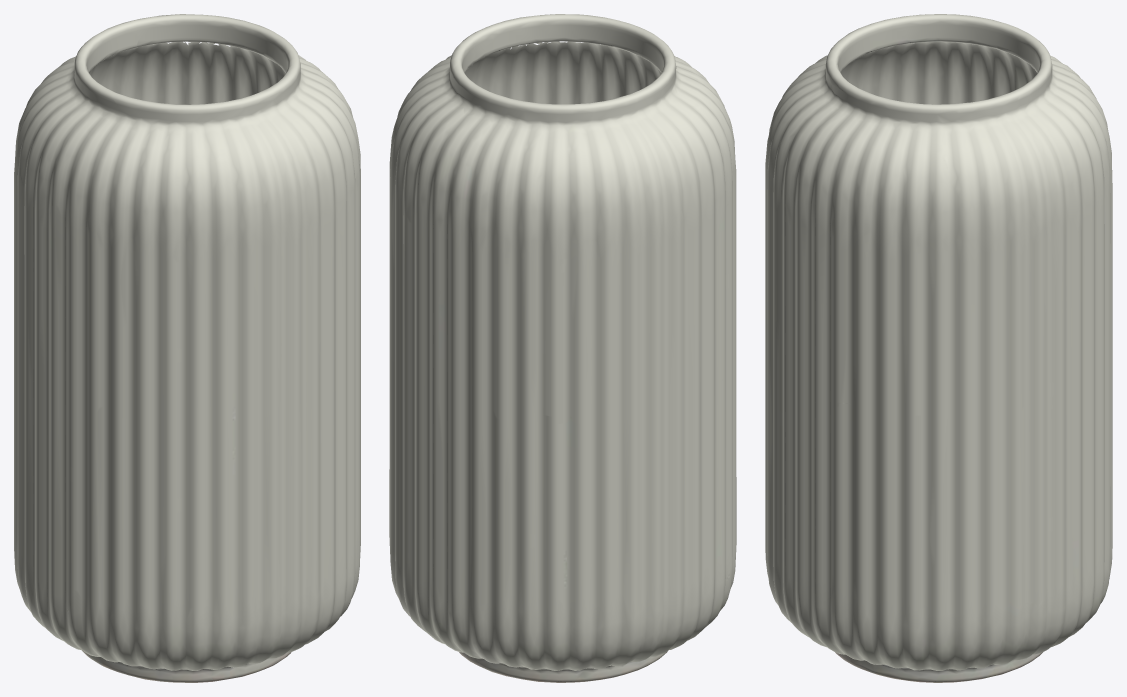
File: stilren_wazon_10442045.glb
The picture shows the model from 3 angles, left to right: view 1: azimuth 30°, elevation 25°; view 2: azimuth 150°, elevation 25°; view 3: azimuth 270°, elevation 25°; orthographic projection.
Parts seen in each view (by area): view 1: stilren_wazon_10442045; view 2: stilren_wazon_10442045; view 3: stilren_wazon_10442045.
Boxes of the visible parts, x1=… form: stilren_wazon_10442045: x1=14, y1=14, x2=360, y2=682; stilren_wazon_10442045: x1=389, y1=14, x2=736, y2=682; stilren_wazon_10442045: x1=765, y1=14, x2=1112, y2=682.
Size of the model in its own units: 0.1185 by 0.2174 by 0.1185.
Materials: 1 (1 with a texture image).
